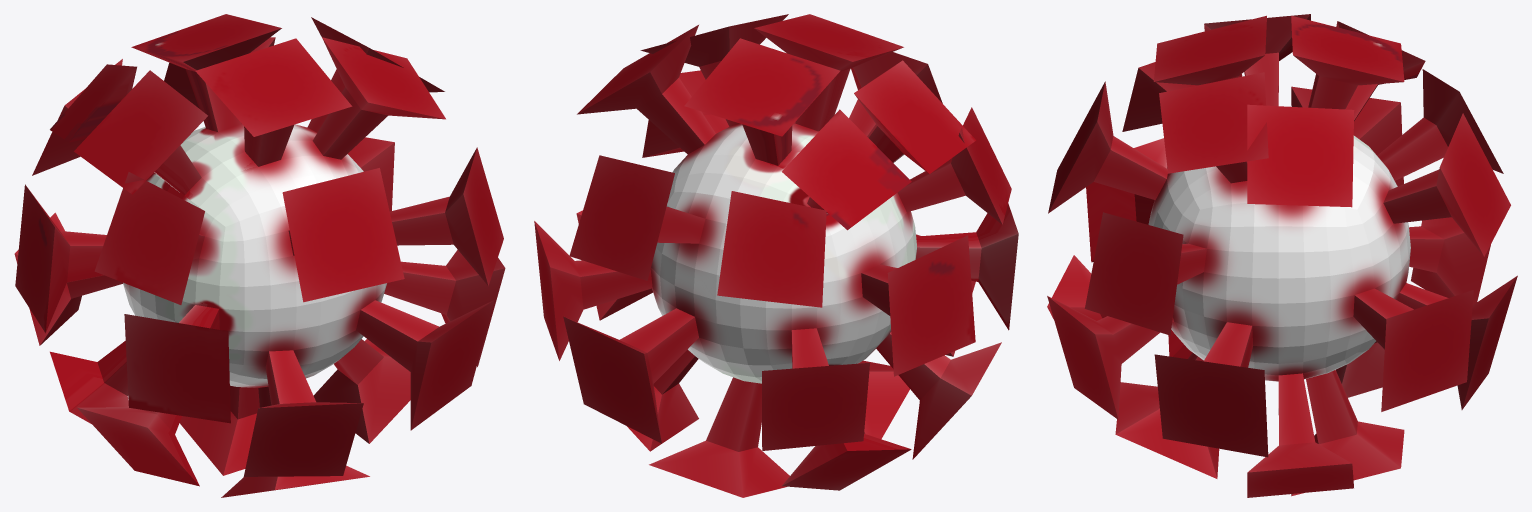
Rendered from covid.gltf.
3 renders of one model, left to right at view 1: azimuth 30°, elevation 25°; view 2: azimuth 150°, elevation 25°; view 3: azimuth 270°, elevation 25°, orthographic.
Parts seen in each view (by area): view 1: Cube; view 2: Cube; view 3: Cube.
Boxes of the visible parts, x1,y1,x2,y2 form: Cube: (14,14,505,497); Cube: (534,14,1018,497); Cube: (1047,14,1517,497).
Bounding box in the file's own units: 3.02 × 3.01 × 2.99.
1 material, 1 textured.
